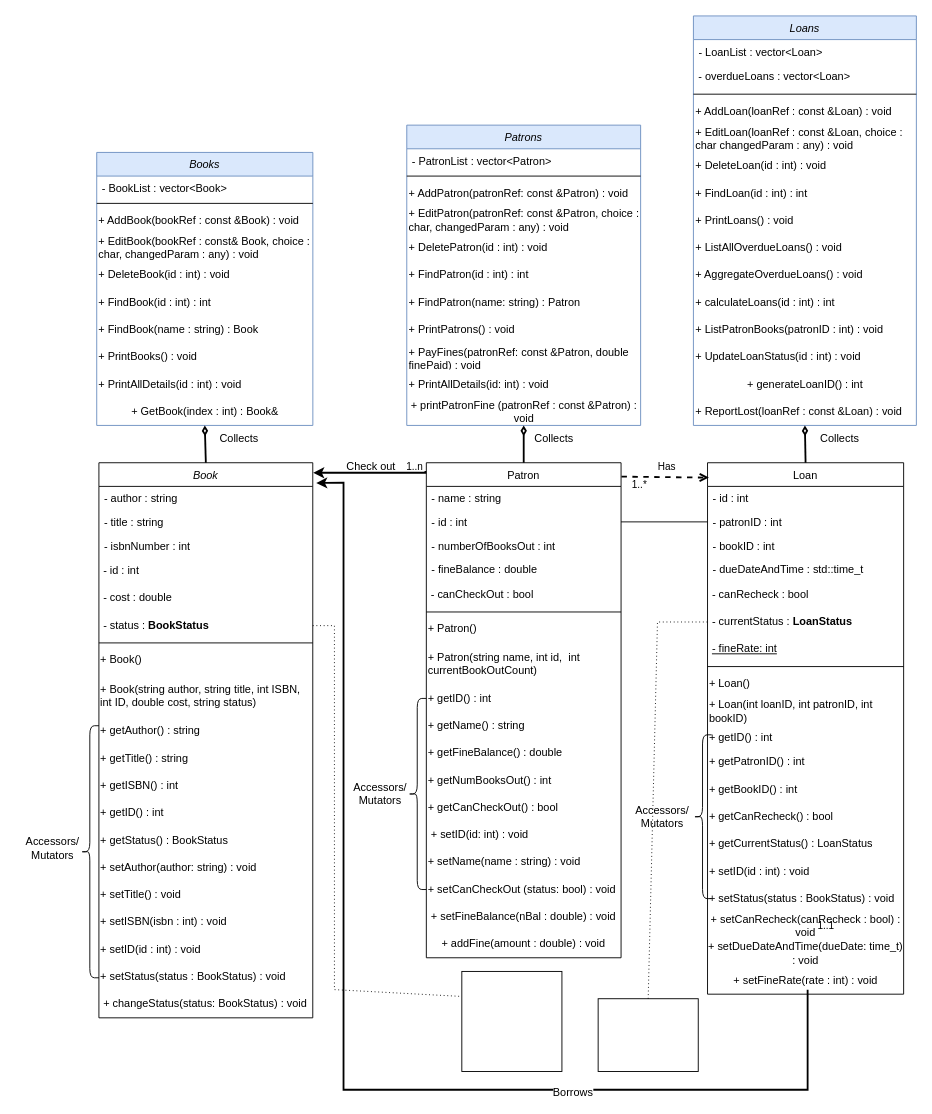
Image size: 932x1114. Some labels were removed from this diagram. The centre of each missing label's shape, as x and y in pixels:
<<enumeration>> BookStatus IN OUT REPAIR LOST: pixel 511 1021
<<enumeration>> LoanStatus NORMAL OVERDUE: pixel 647 1035
